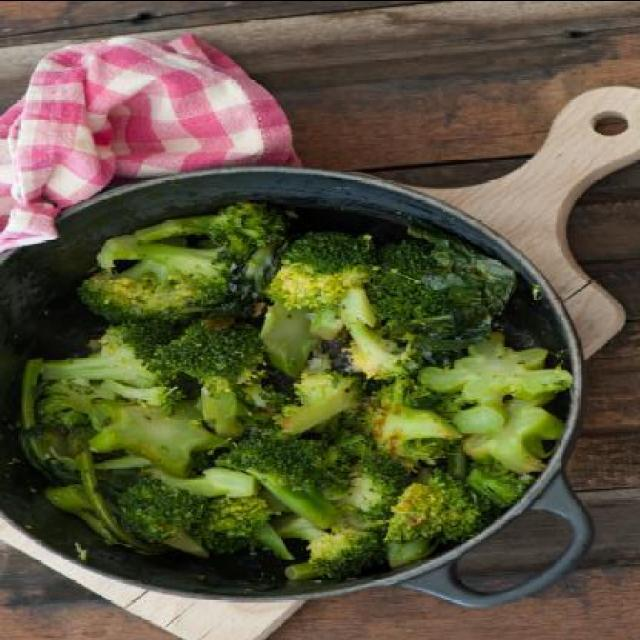Broccoli: (34, 200, 572, 582)
